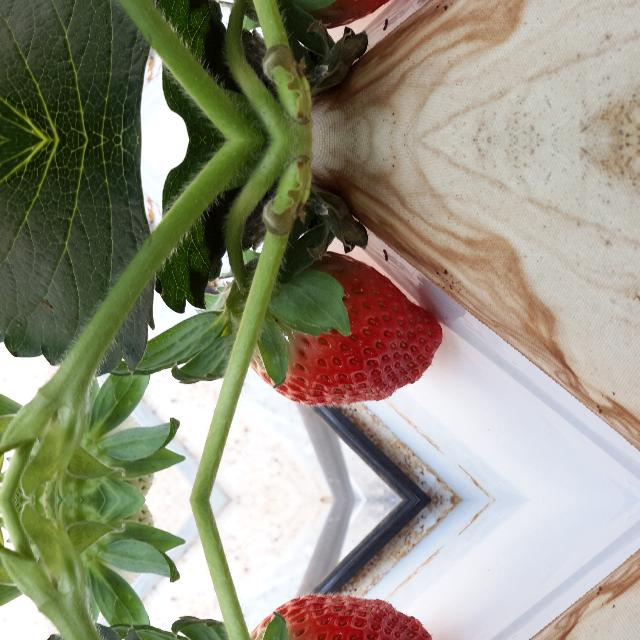Health_100: (248, 252, 442, 406), (248, 593, 442, 640)
